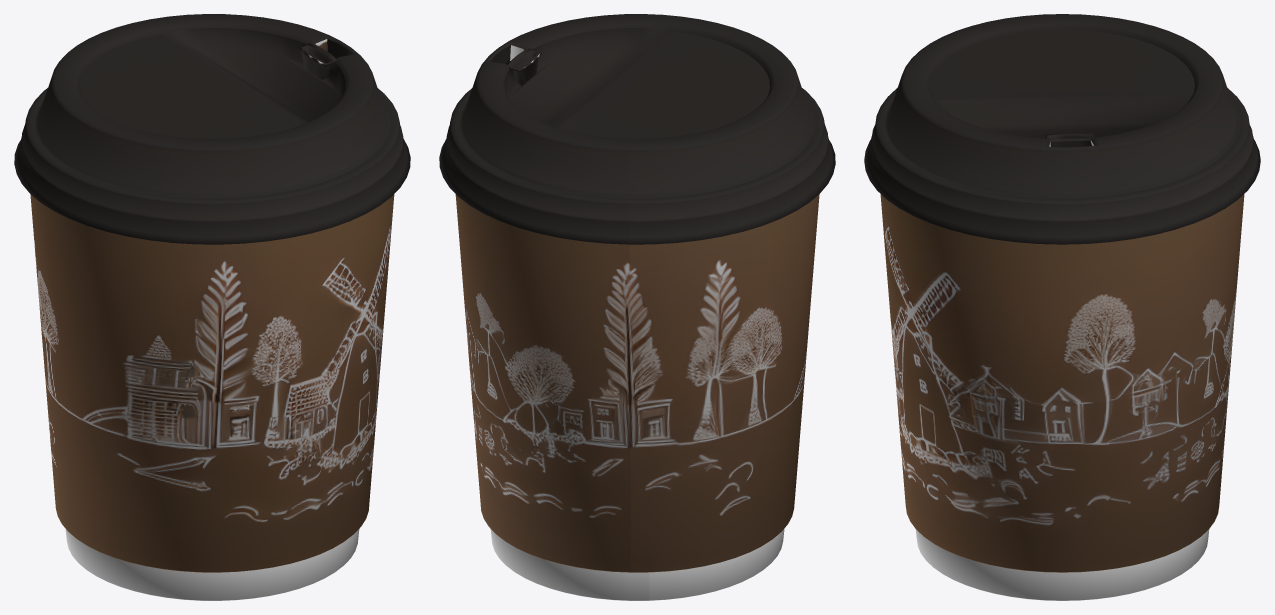
The picture shows the model from 3 angles, left to right: view 1: azimuth 30°, elevation 25°; view 2: azimuth 150°, elevation 25°; view 3: azimuth 270°, elevation 25°; orthographic projection.
Visible parts, largest first — view 1: texture_v100.001; view 2: texture_v100.001; view 3: texture_v100.001.
Part boxes in pixels (bbox=[...]): texture_v100.001: bbox=[14, 14, 410, 600]; texture_v100.001: bbox=[439, 14, 835, 600]; texture_v100.001: bbox=[864, 14, 1260, 600].
Bounding box in the file's own units: 1.57 × 2 × 1.57.
Materials: 1 (1 with a texture image).
